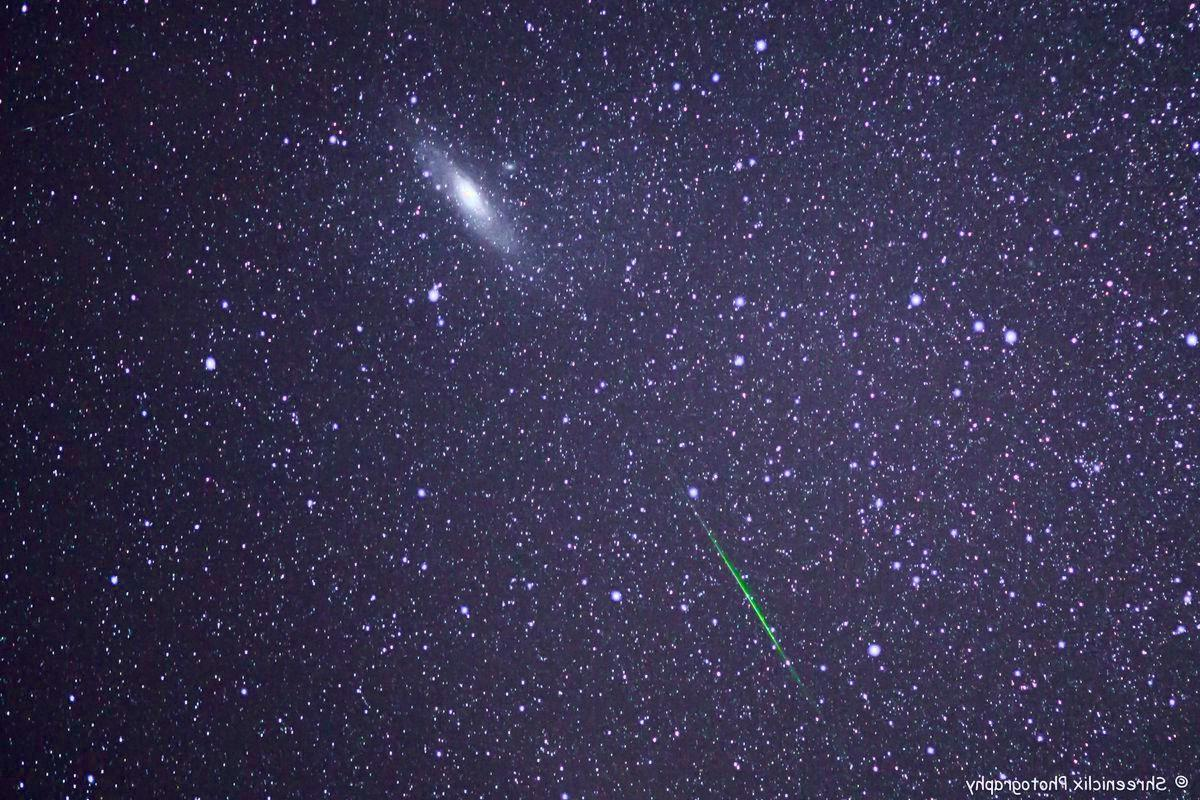meteorite: (672, 489, 813, 704)
